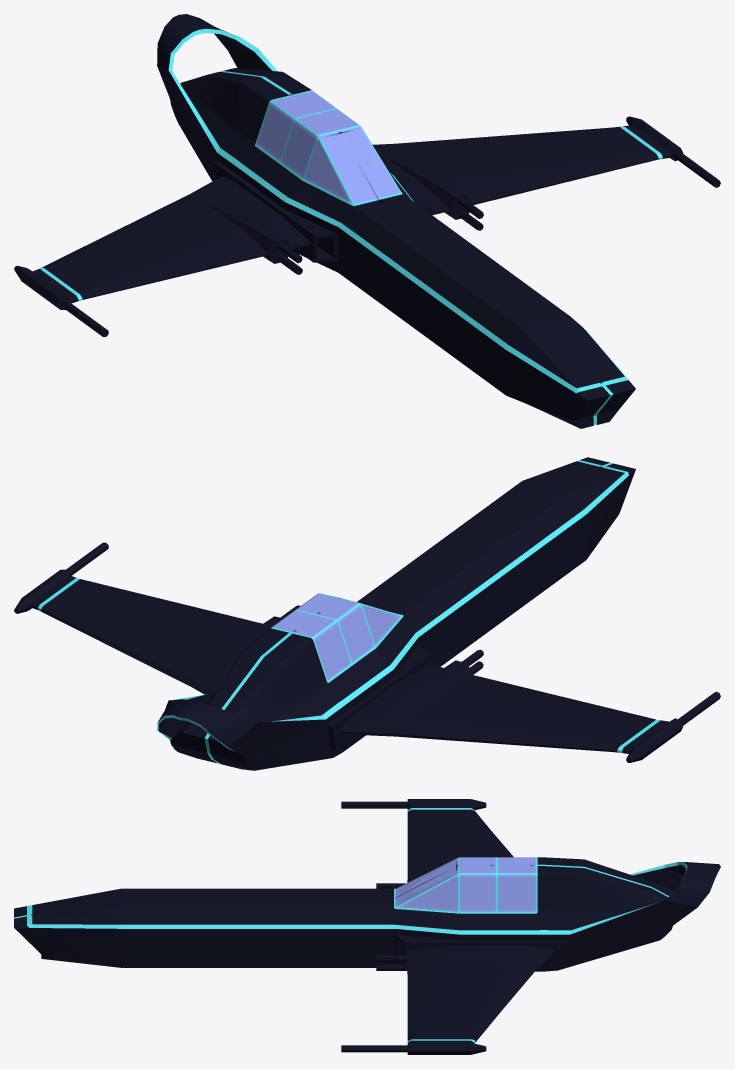
File: lance.FBX
3 views of the same model, one above another, from view 1: azimuth 30°, elevation 25°; view 2: azimuth 150°, elevation 25°; view 3: azimuth 270°, elevation 25° (orthographic). The views are drawn at different scales.
Visible parts, largest first — view 1: lance; view 2: lance; view 3: lance.
Part boxes in pixels (x1=…): lance: x1=14, y1=14, x2=720, y2=428; lance: x1=14, y1=457, x2=720, y2=770; lance: x1=14, y1=799, x2=720, y2=1054.
Size of the model in its own units: 0.2551 by 0.0445 by 0.3062.
